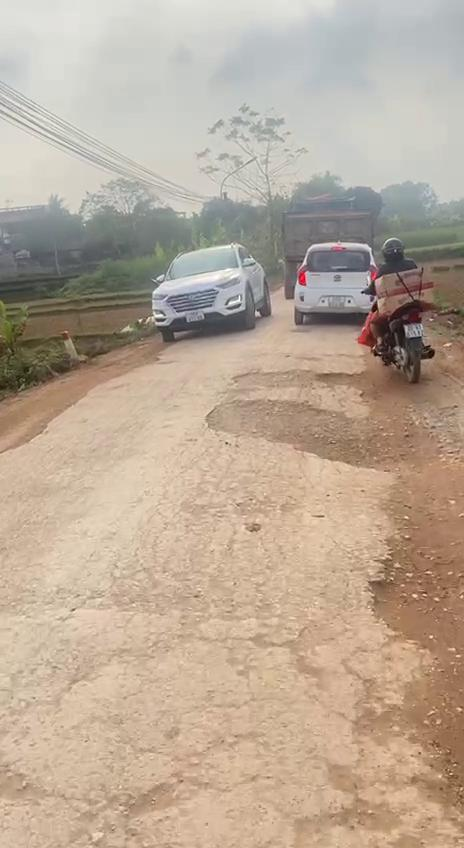pothole: (321, 676, 464, 840), (205, 364, 397, 477), (360, 528, 461, 652)
